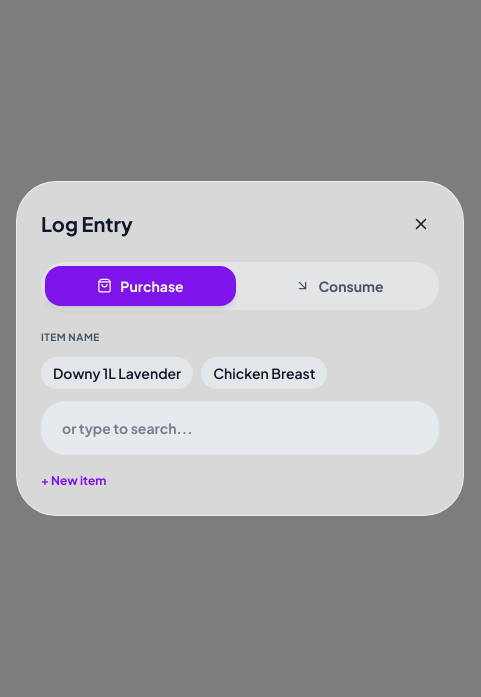
Test: LogEntrySheet › [≠] reveals date picker input
Step 1. Click the button with test id "item-chip-1" → click(117, 372), box [41,356,193,388]
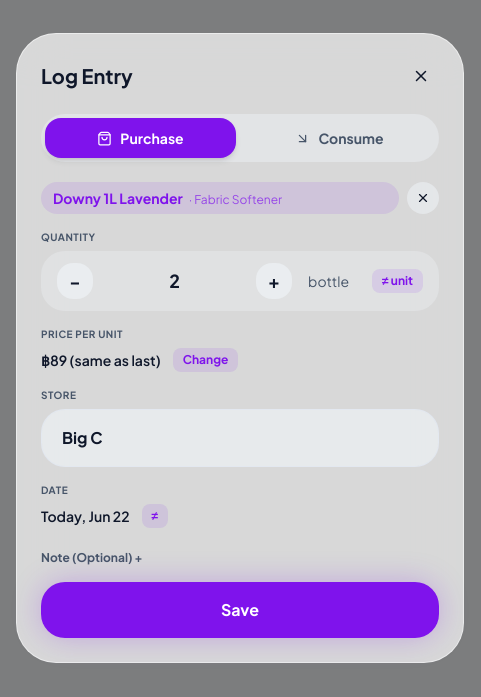
Step 2. Click the button with test id "change-date-btn" → click(155, 516), box [142,504,168,528]
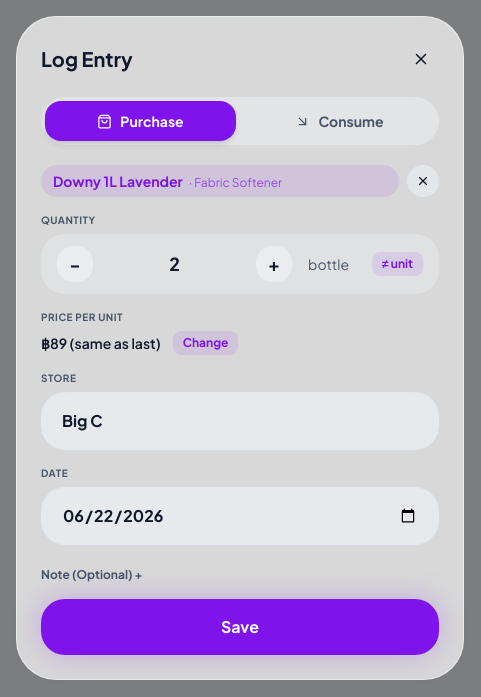
expect the text with test id "date-label" is gone: met
expect the date field with test id "date-input" is shown: met, box [41,487,439,545]
